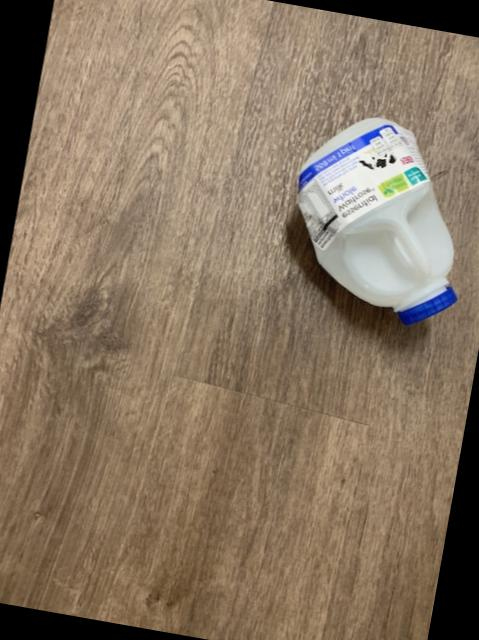plastic: (298, 117, 456, 322)
